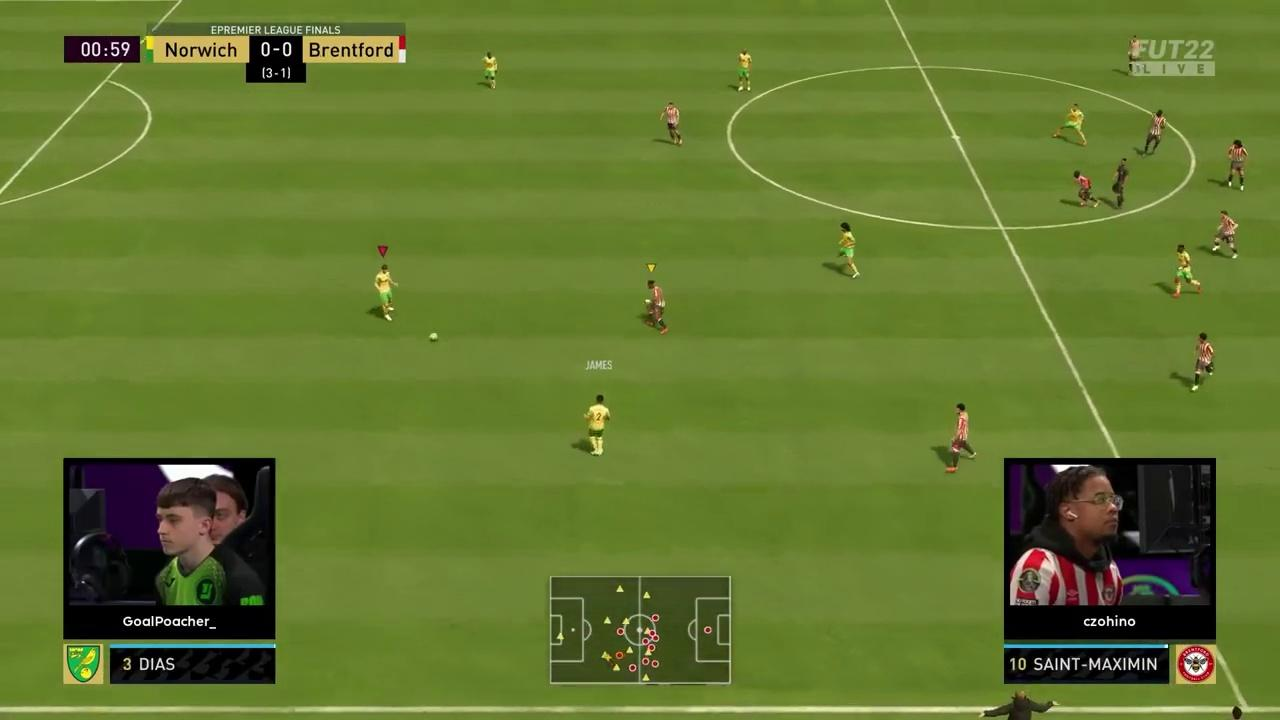timestamp: (66, 34, 141, 64)
